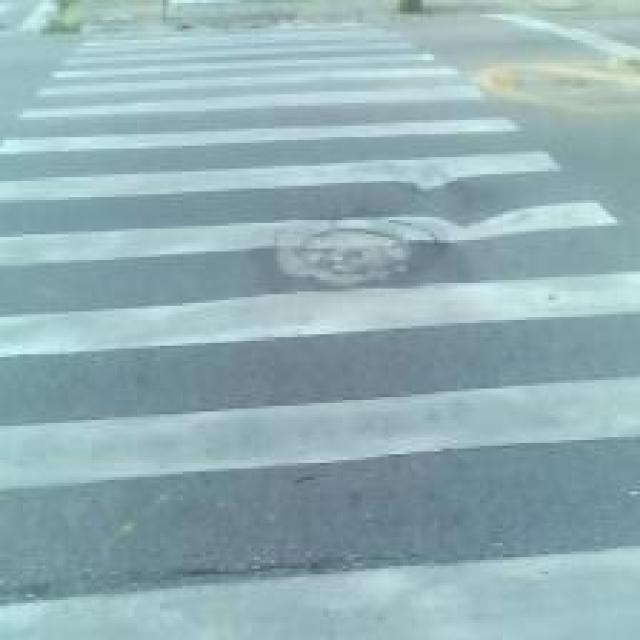walk-crossing: (76, 34, 601, 640)
